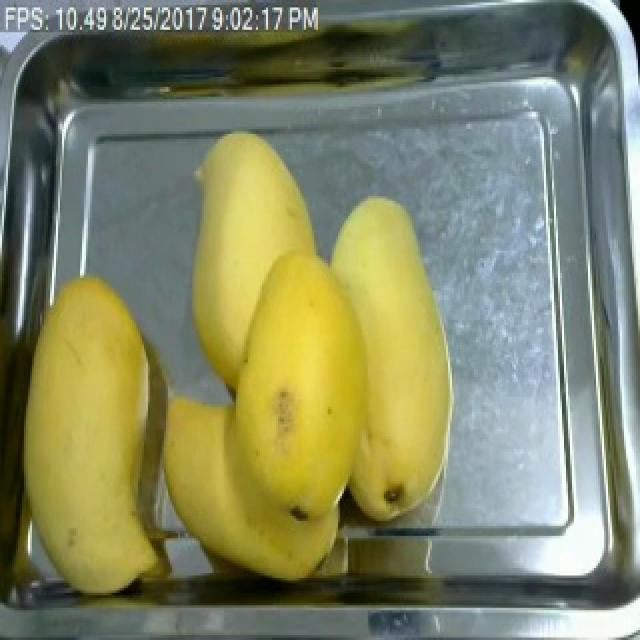fruit: (184, 184, 470, 538), (6, 270, 166, 603)
